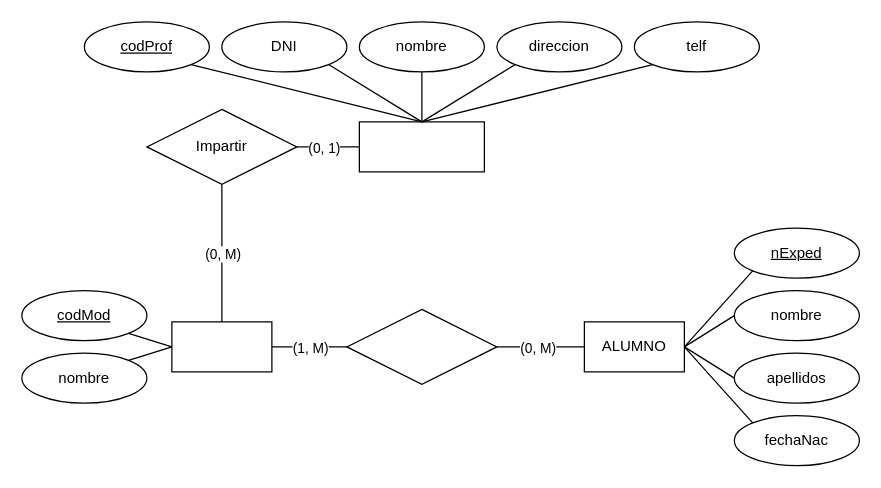
Some shapes in this 881 by 488 pixel diagram are drawn without their labels. The centre of each missing label's shape, as x and y in pixels:
Matricular: point (421, 346)
MODULO: point (221, 346)
PROFESOR: point (421, 146)
